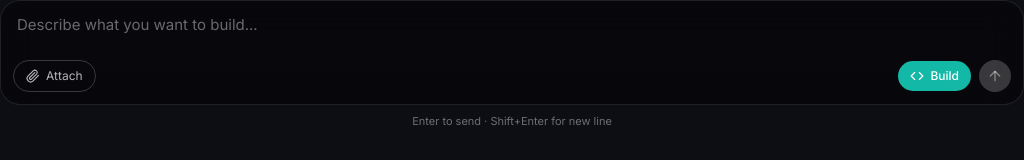
Test: ChatInput › Chat Mode Toggle › toggles between modes when clicked
Expected: the text "Build" is shown, [930,67,959,85]
Note: Click to toggle to chat mode
Click the button "Build" at {"x": 935, "y": 76}, box [898,61,971,91]
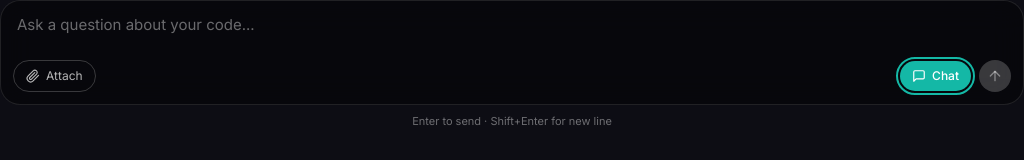
Expected: the text "Chat" is shown, [932,67,959,85]
Note: Click to toggle back to build mode
Click the button "Chat" at {"x": 936, "y": 76}, box [900,61,971,91]
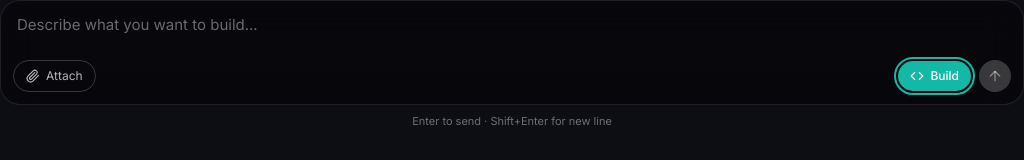
Expected: the text "Build" is shown, [930,67,959,85]
